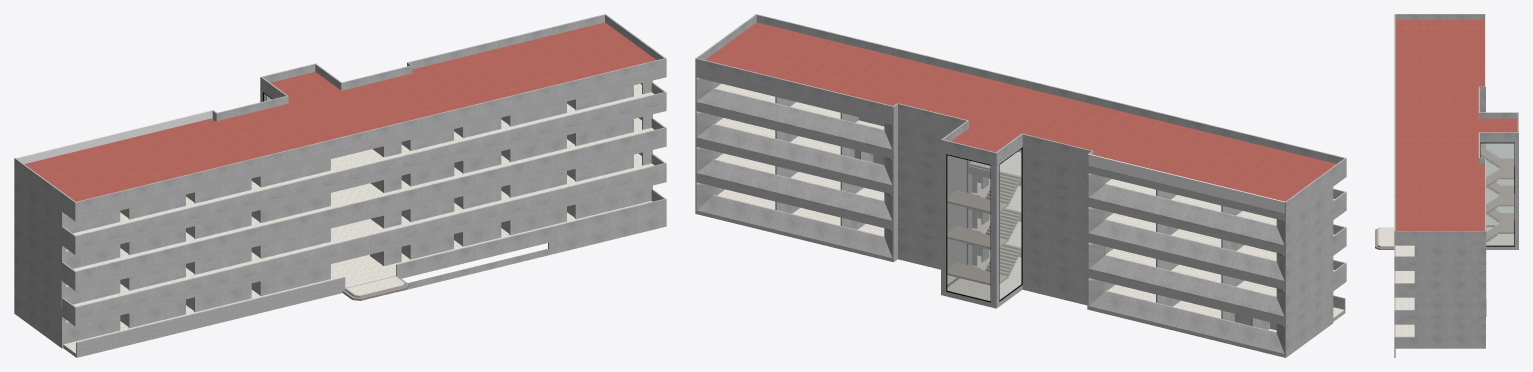
File: MUROS.fbx
3 views of the same model, side by side, from view 1: azimuth 30°, elevation 25°; view 2: azimuth 150°, elevation 25°; view 3: azimuth 270°, elevation 25° (orthographic). The views are drawn at different scales.
Parts seen in each view (by area): view 1: Group1, Unir, Group102, Group25, Group44, Group157, FALDON1, FALDON3, FALDON2, FALDON, Group156, Unir4 (+18 smaller); view 2: Group1, Unir, Group201, Group124, FALDON1, FALDON2, FALDON3, FALDON, ENTREPISO1, Group166, Group158, ENTREPISO (+32 smaller); view 3: Group1, Group185, Unir, Group148, Group84, Group40, Group19, Group193, Group124, FALDON, FALDON1, FALDON2 (+21 smaller).
Part boxes in pixels (left/top/right/bottom): Group1: left=24, top=22, right=656, bottom=201; Unir: left=14, top=14, right=666, bottom=213; Group102: left=76, top=163, right=666, bottom=318; Group25: left=76, top=91, right=666, bottom=247; Group44: left=76, top=127, right=666, bottom=282; Group157: left=396, top=199, right=666, bottom=292; FALDON1: left=14, top=103, right=666, bottom=254; FALDON3: left=14, top=174, right=666, bottom=326; FALDON2: left=14, top=139, right=666, bottom=290; FALDON: left=14, top=70, right=666, bottom=221; Group156: left=76, top=277, right=345, bottom=357; Unir4: left=14, top=159, right=329, bottom=236; Group1: left=705, top=22, right=1336, bottom=201; Unir: left=695, top=14, right=1346, bottom=213; Group201: left=947, top=155, right=990, bottom=300; Group124: left=696, top=189, right=1344, bottom=357; FALDON1: left=695, top=103, right=1346, bottom=254; FALDON2: left=695, top=139, right=1346, bottom=290; FALDON3: left=695, top=174, right=1346, bottom=325; FALDON: left=695, top=70, right=1346, bottom=221; ENTREPISO1: left=696, top=153, right=1334, bottom=318; Group166: left=1089, top=291, right=1284, bottom=353; Group158: left=697, top=195, right=891, bottom=257; ENTREPISO: left=696, top=118, right=1334, bottom=282; Group1: left=1395, top=20, right=1517, bottom=230; Group185: left=1480, top=143, right=1514, bottom=245; Unir: left=1394, top=14, right=1485, bottom=239; Group148: left=1414, top=324, right=1485, bottom=348; Group84: left=1413, top=297, right=1485, bottom=318; Group40: left=1414, top=271, right=1485, bottom=291; Group19: left=1415, top=245, right=1485, bottom=265; Group193: left=1480, top=143, right=1513, bottom=225; Group124: left=1395, top=227, right=1514, bottom=336; FALDON: left=1394, top=240, right=1485, bottom=245; FALDON1: left=1394, top=265, right=1485, bottom=270; FALDON2: left=1394, top=292, right=1485, bottom=297.
Bounding box in the file's own units: 66.04 × 17.93 × 18.49.
